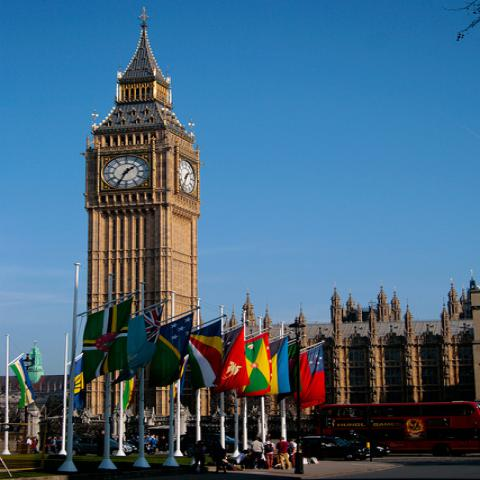bus: (305, 400, 479, 460)
car: (183, 432, 249, 456), (304, 436, 370, 460), (72, 436, 133, 456), (346, 438, 389, 456)
